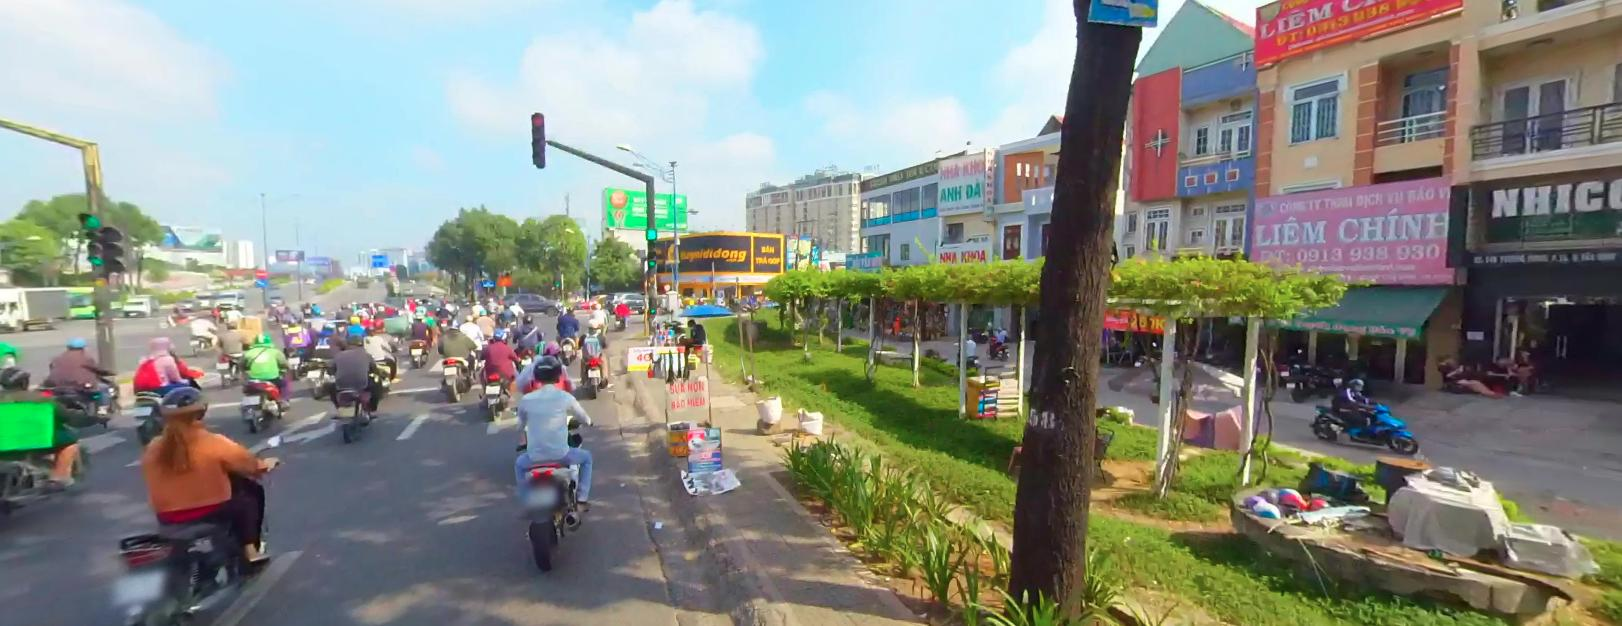Cam nguoc chieu: (254, 267, 267, 276), (256, 268, 268, 276)
Hieu lenh: (256, 277, 268, 286), (254, 277, 268, 285)
